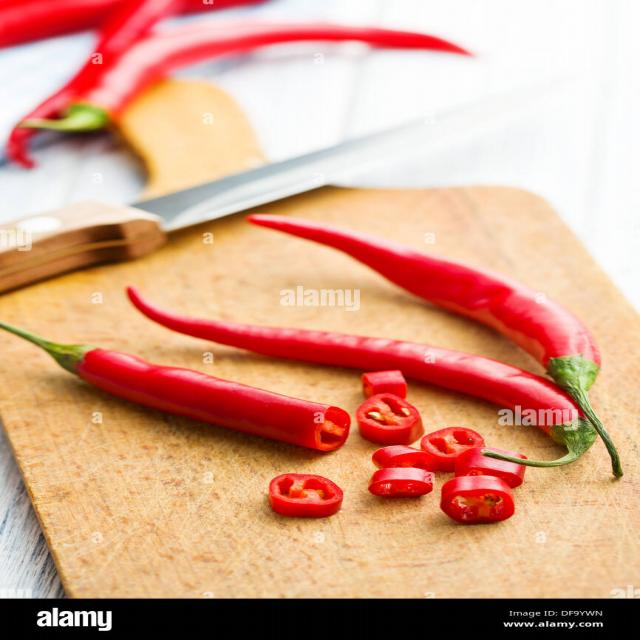red chili: (247, 214, 624, 478), (126, 287, 598, 467), (0, 323, 350, 451)
